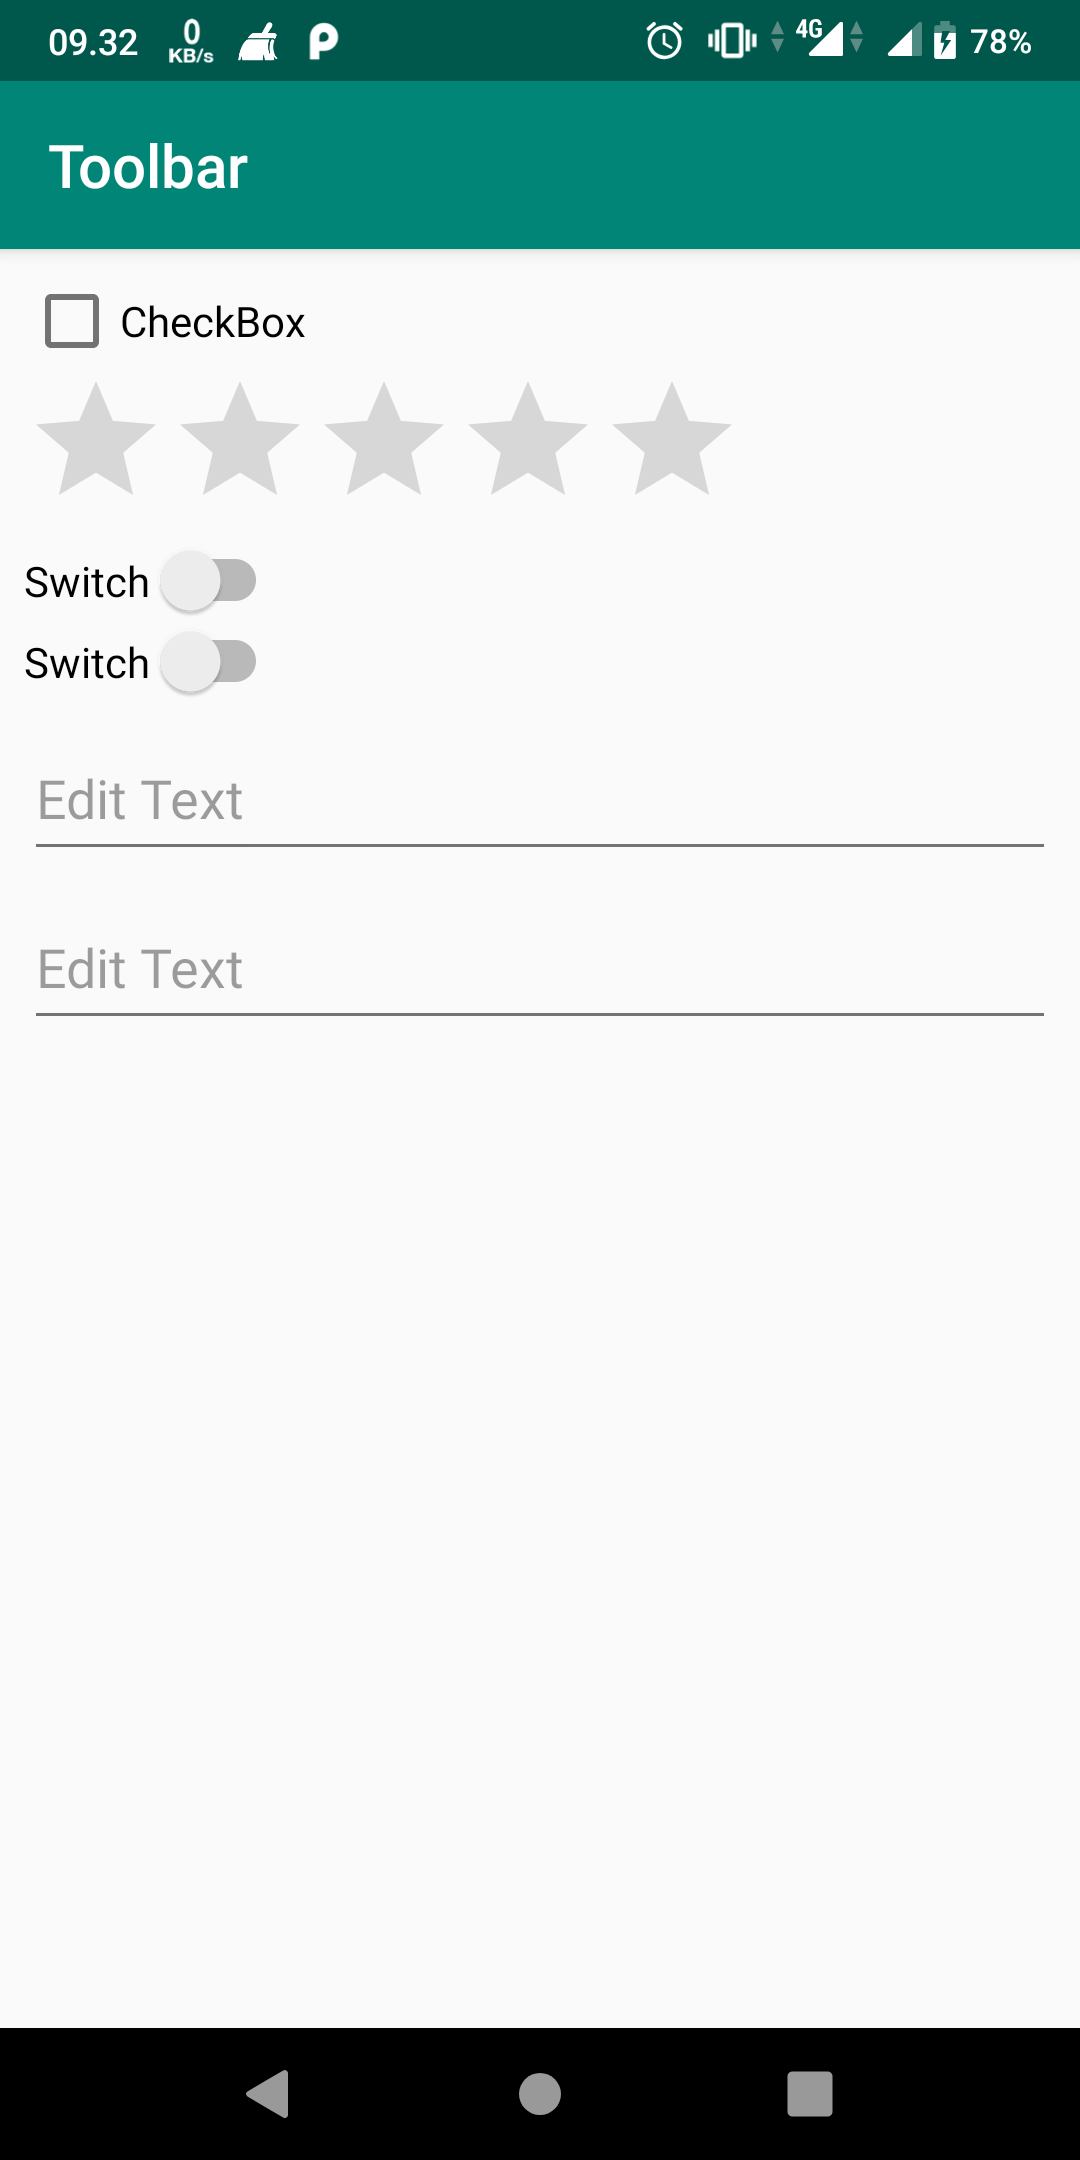checkBox: (28, 282, 315, 357)
editText: (28, 760, 1061, 866), (22, 941, 1054, 1035)
ratingBar: (34, 380, 731, 506)
switch: (15, 635, 270, 696), (19, 551, 270, 612)
toolbar: (3, 80, 1080, 247)
